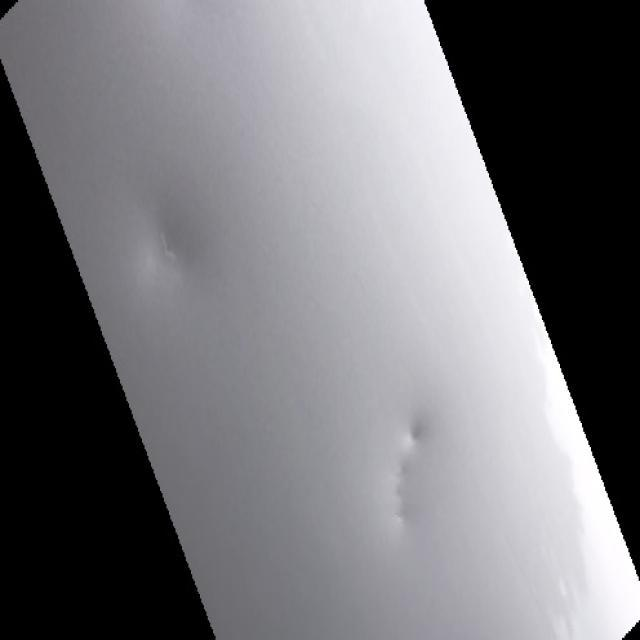dent: (394, 376, 436, 538), (132, 203, 199, 304)
